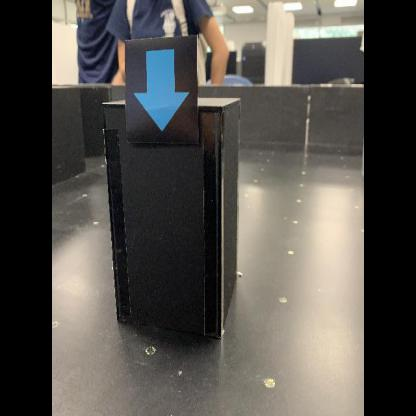down: (124, 33, 202, 148)
